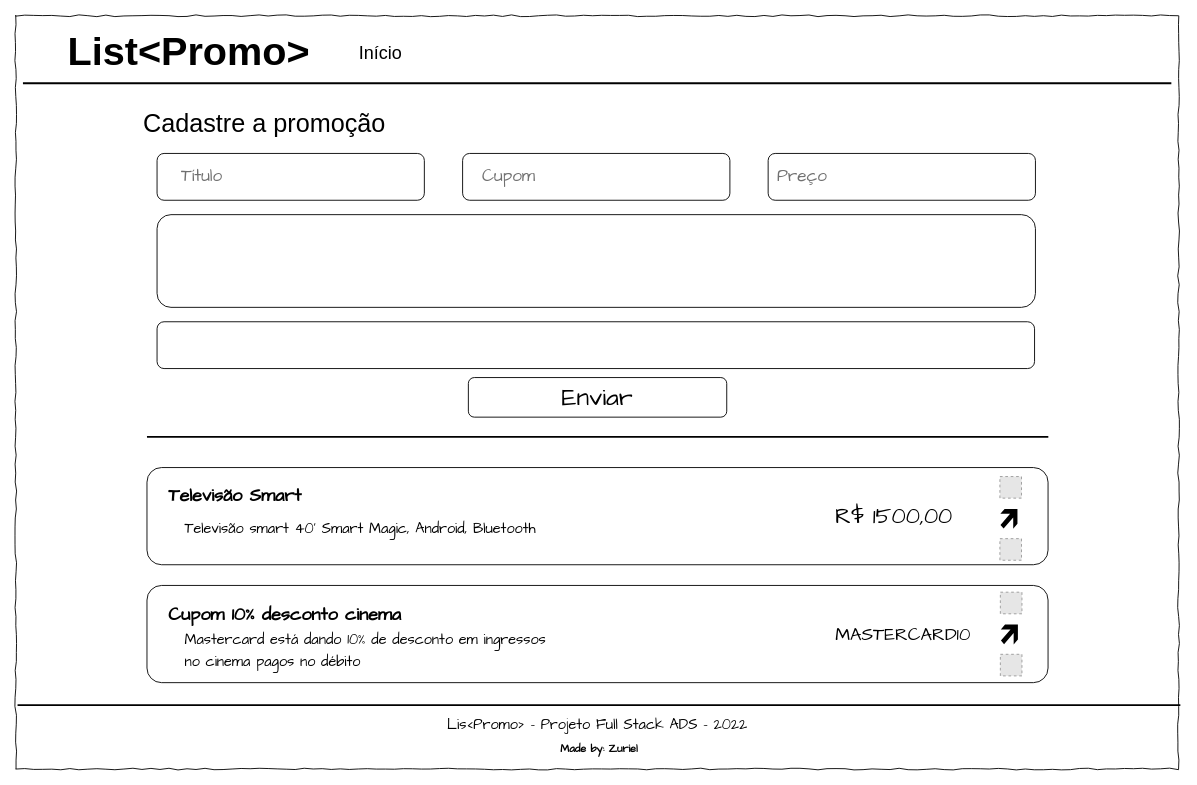
Image size: 1197x785. Some labels were removed from this diagram. Grey dashed boxes stand in for pictures. The shapes that lost their labels are listed below. From the top down, each one's box as (x1, y1, x2, y2) in pixels, then its label:
(156, 214, 1035, 307): Descrição
(156, 321, 1035, 369): Link
